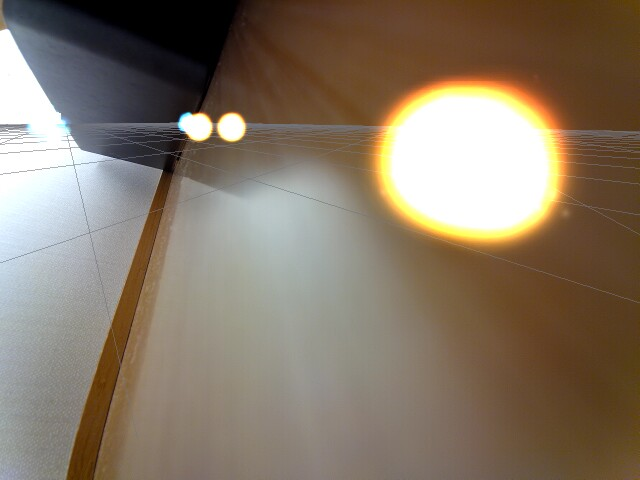firebig: (357, 60, 568, 269)
